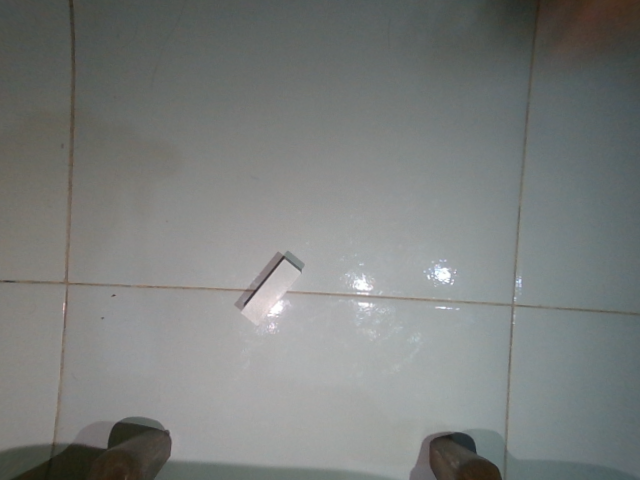Balok-Putih: (232, 253, 299, 328)
